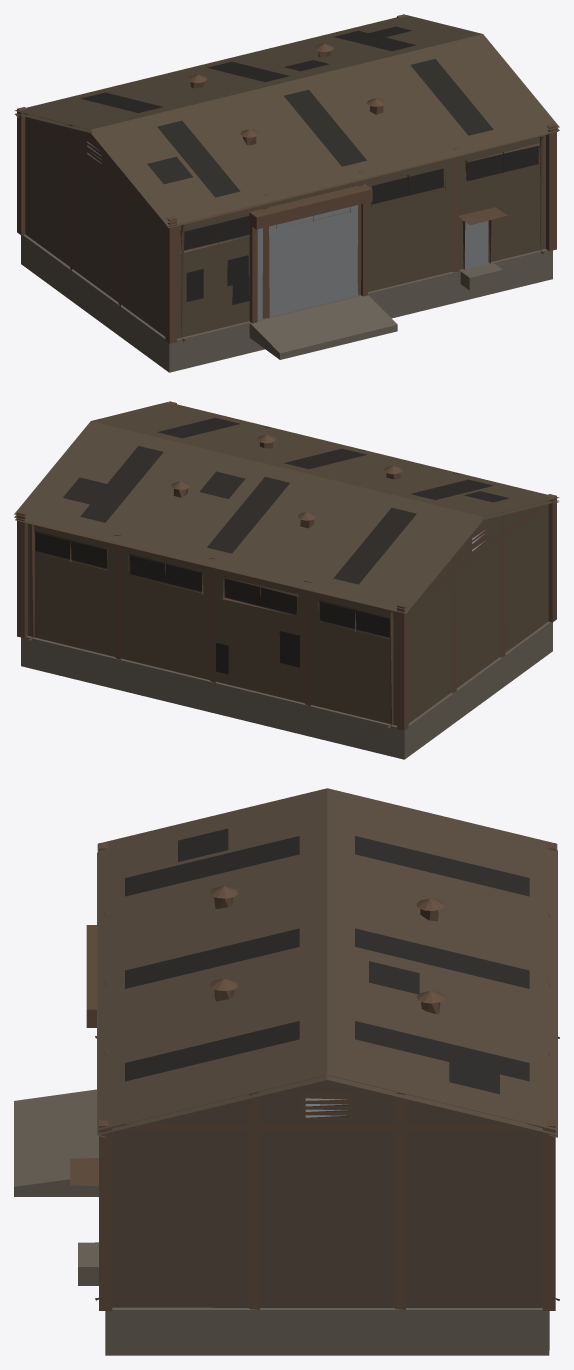
Rendered from warehouse-rusty-lod1.glb.
3 renders of one model, top to bottom at view 1: azimuth 30°, elevation 25°; view 2: azimuth 150°, elevation 25°; view 3: azimuth 270°, elevation 25°, orthographic. The views are drawn at different scales.
Visible parts, largest first — view 1: warehouse-rusty.001; view 2: warehouse-rusty.001; view 3: warehouse-rusty.001.
Boxes of the visible parts, x1,y1,x2,y2 form: warehouse-rusty.001: [14, 14, 559, 372]; warehouse-rusty.001: [14, 401, 559, 759]; warehouse-rusty.001: [14, 788, 559, 1355].
Size of the model in its own units: 18.6 by 8.59 by 14.97.
